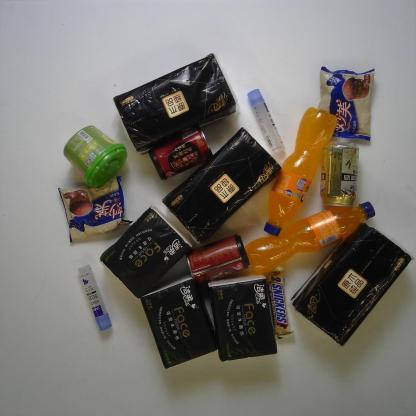Alcohol: (320, 141, 360, 207)
Canned Food: (147, 126, 214, 182), (184, 232, 252, 284)
Chocolate: (264, 260, 296, 341)
Dessert: (57, 174, 134, 244), (317, 66, 375, 142)
Drink: (244, 200, 377, 277), (262, 106, 338, 238)
Instant Drink: (63, 124, 128, 189)
Stationery: (247, 88, 287, 156), (77, 263, 114, 333)
Tissue: (289, 221, 415, 347), (161, 126, 283, 246), (112, 51, 238, 156), (97, 204, 194, 300), (140, 272, 218, 371), (207, 272, 278, 364)
